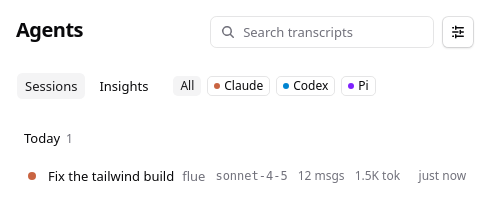
Test case: AgentsRoute › promotes a submitted search to results and lands hits on the anchor
The image size is (491, 200).
In the search field labelled "Search transcripts": (322, 32) left=210, top=16, right=434, bottom=48, type "tailwind"
Then press Enter
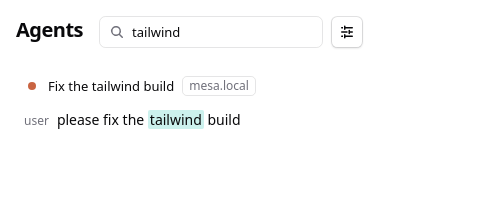
expect the text "tailwind" is shown: met, box left=148, top=110, right=204, bottom=129
